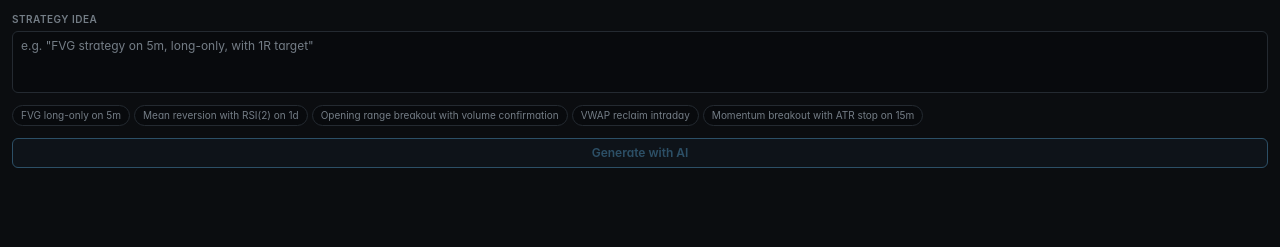
<AIPromptTab /> › 502 response renders error banner with Retry button
In the text box named "strategy idea prompt": [640, 62] box left=12, top=31, right=1268, bottom=93, type "FVG strategy on 5m long-only"
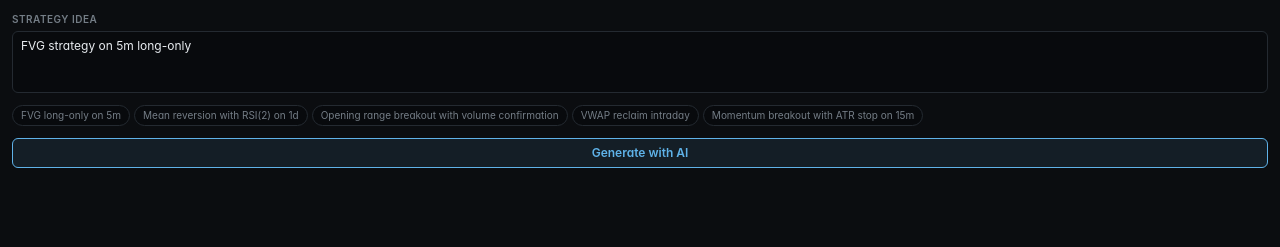
Click the button with test id "ai-generate-btn": [640, 153] box left=12, top=138, right=1268, bottom=168
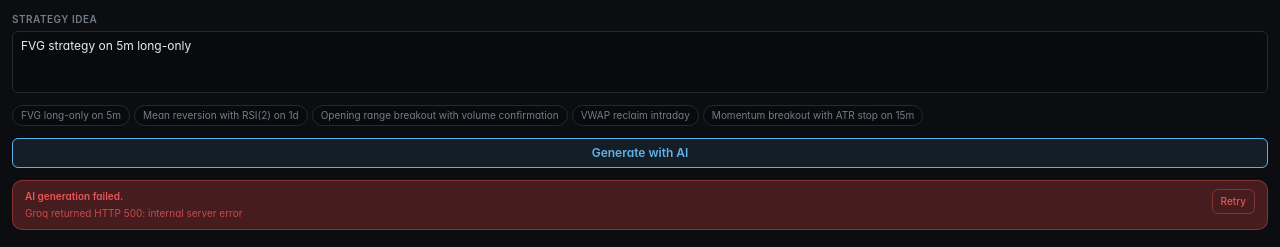
Expected: the message "AI generation failed. Groq returned HTTP 500: internal server error Retry" is shown, left=12, top=180, right=1268, bottom=230
Expected: the button with test id "ai-retry-btn" is shown, left=1212, top=189, right=1255, bottom=214
